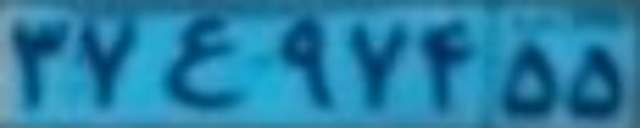3: (7, 14, 73, 112)
4: (419, 18, 477, 116)
5: (564, 43, 627, 117), (498, 43, 561, 116)
7: (343, 18, 413, 110), (79, 15, 136, 109)
9: (272, 15, 335, 111)
ain: (156, 15, 242, 110)
